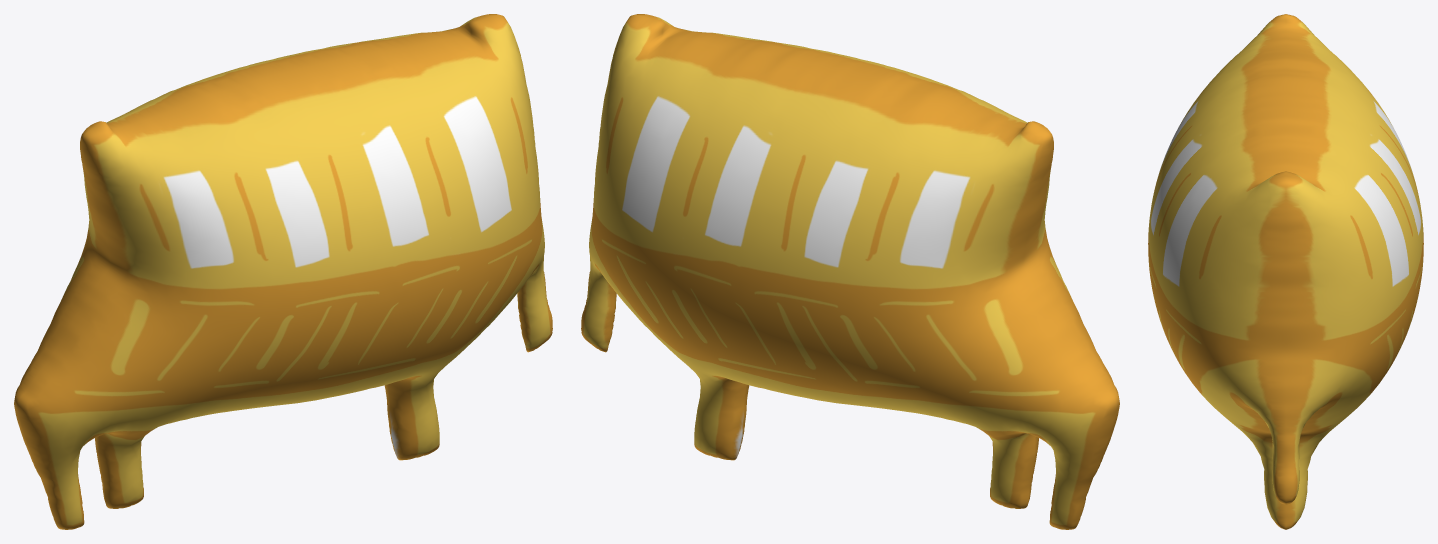
Rendered from Yellowbench0.glb.
3 views of the same model, side by side, from view 1: azimuth 30°, elevation 25°; view 2: azimuth 150°, elevation 25°; view 3: azimuth 270°, elevation 25° (orthographic). The views are drawn at different scales.
Bounding box in the file's own units: 7.03 × 5.31 × 3.48.
1 material, 1 textured.
